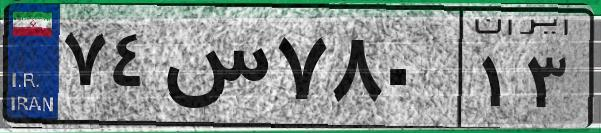0: (385, 28, 445, 110)
1: (475, 38, 525, 113)
3: (525, 38, 570, 115)
4: (110, 28, 158, 98)
7: (270, 28, 330, 110), (57, 26, 110, 100)
8: (330, 28, 385, 110)
س: (158, 20, 270, 120)
